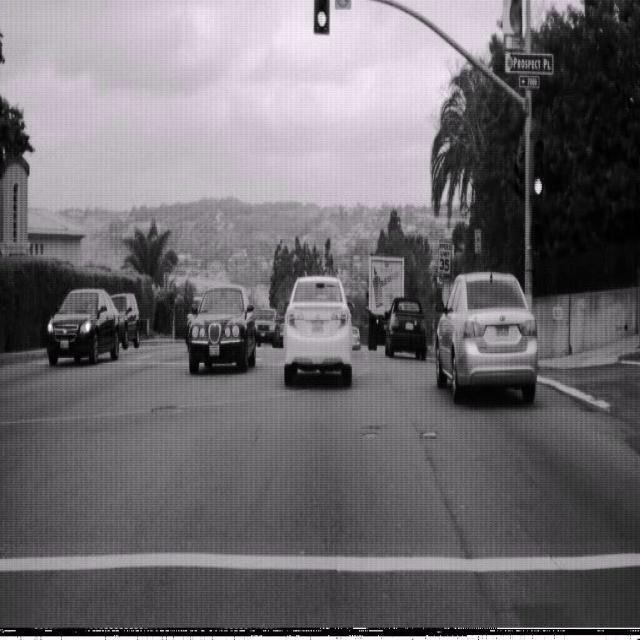speedLimit35: (437, 238, 452, 274)
